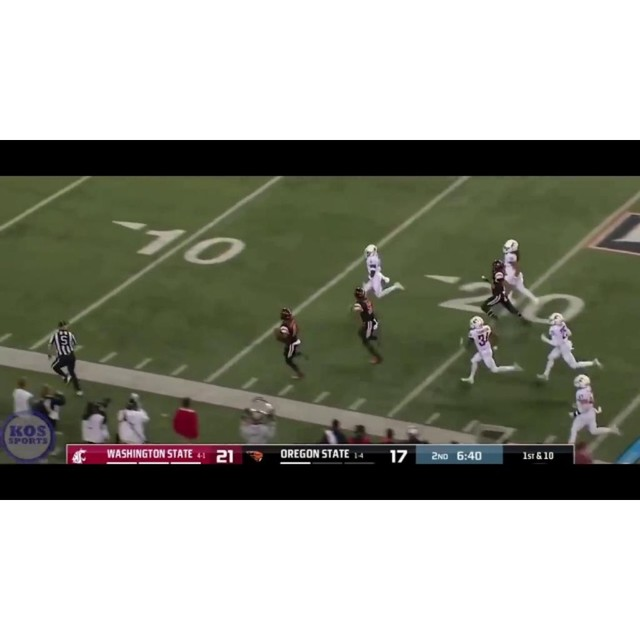american-football-player: (538, 313, 600, 382), (463, 315, 519, 386), (568, 375, 620, 451), (350, 288, 385, 365), (502, 240, 540, 309), (480, 259, 522, 320), (273, 308, 308, 380), (362, 244, 406, 300)
referee: (47, 319, 84, 397)
